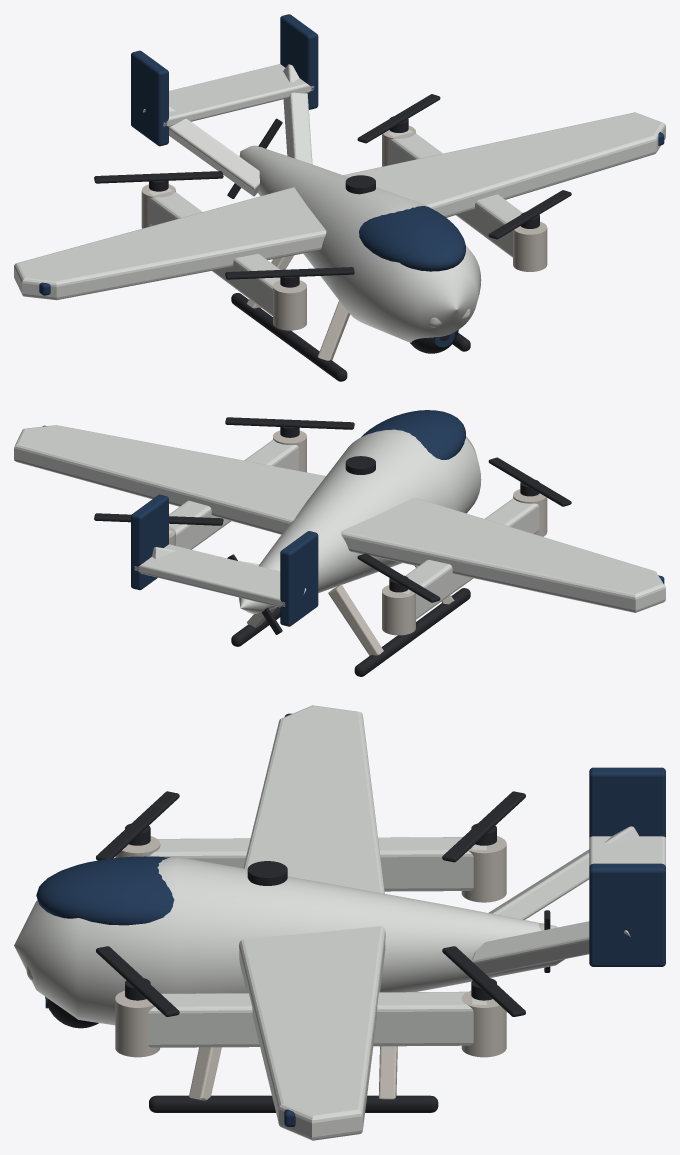
File: robots-25.glb
3 renders of one model, top to bottom at view 1: azimuth 30°, elevation 25°; view 2: azimuth 150°, elevation 25°; view 3: azimuth 270°, elevation 25°, orthographic. The views are drawn at different scales.
Parts seen in each view (by area): view 1: wing, body, tail, booms, tail-fins, canopy, rotors, motors, skids, camera; view 2: wing, body, tail-fins, booms, tail, rotors, skids, motors, canopy, antenna; view 3: wing, body, booms, tail-fins, tail, canopy, motors, rotors, skids, antenna.
Boxes of the visible parts, left/top/right/bottom form: wing: left=14, top=112, right=665, bottom=300; body: left=239, top=145, right=481, bottom=342; tail: left=143, top=64, right=314, bottom=196; booms: left=148, top=129, right=522, bottom=316; tail-fins: left=131, top=14, right=318, bottom=146; canopy: left=359, top=206, right=465, bottom=271; rotors: left=94, top=94, right=571, bottom=287; motors: left=141, top=126, right=547, bottom=330; skids: left=231, top=255, right=470, bottom=381; camera: left=410, top=330, right=458, bottom=353; wing: left=14, top=425, right=665, bottom=612; body: left=238, top=429, right=481, bottom=613; tail-fins: left=131, top=494, right=318, bottom=626; booms: left=169, top=439, right=539, bottom=619; tail: left=134, top=544, right=306, bottom=607; rotors: left=94, top=417, right=571, bottom=602; skids: left=231, top=565, right=470, bottom=676; motors: left=169, top=430, right=547, bottom=635; canopy: left=361, top=410, right=465, bottom=459; antenna: left=345, top=456, right=375, bottom=474; wing: left=239, top=705, right=385, bottom=1140; body: left=14, top=856, right=564, bottom=1025; booms: left=148, top=837, right=486, bottom=1047; tail-fins: left=589, top=767, right=665, bottom=966; tail: left=472, top=826, right=665, bottom=974; canopy: left=36, top=856, right=174, bottom=925; motors: left=115, top=836, right=506, bottom=1057; rotors: left=96, top=791, right=525, bottom=1016; skids: left=149, top=1046, right=438, bottom=1112; antenna: left=247, top=861, right=287, bottom=885.
Size of the model in its own units: 3.97 by 1.13 by 2.63.
